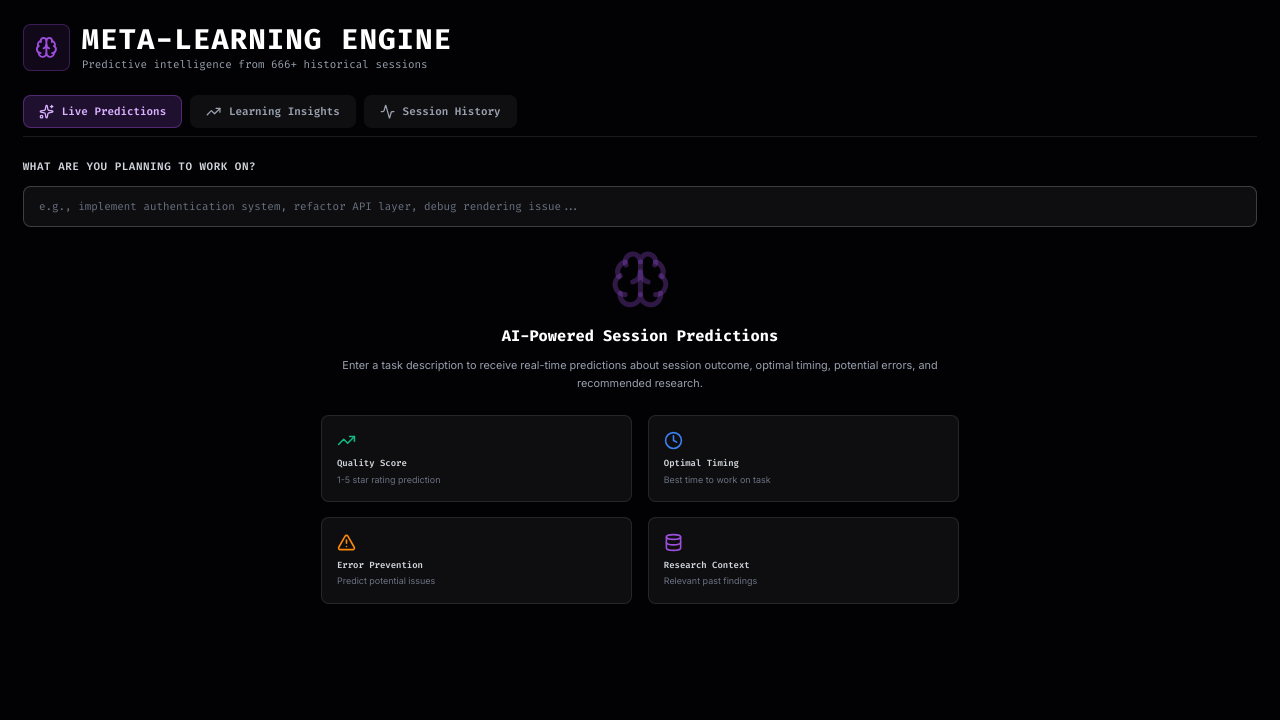
Test case: MetaLearningDashboard › shows character count warning when intent is 1-2 chars
The image size is (1280, 720).
Replace the text in the field with placeholder "implement authentication system" with "ab" at (640, 206), box x1=23 y1=186 x2=1257 y2=227
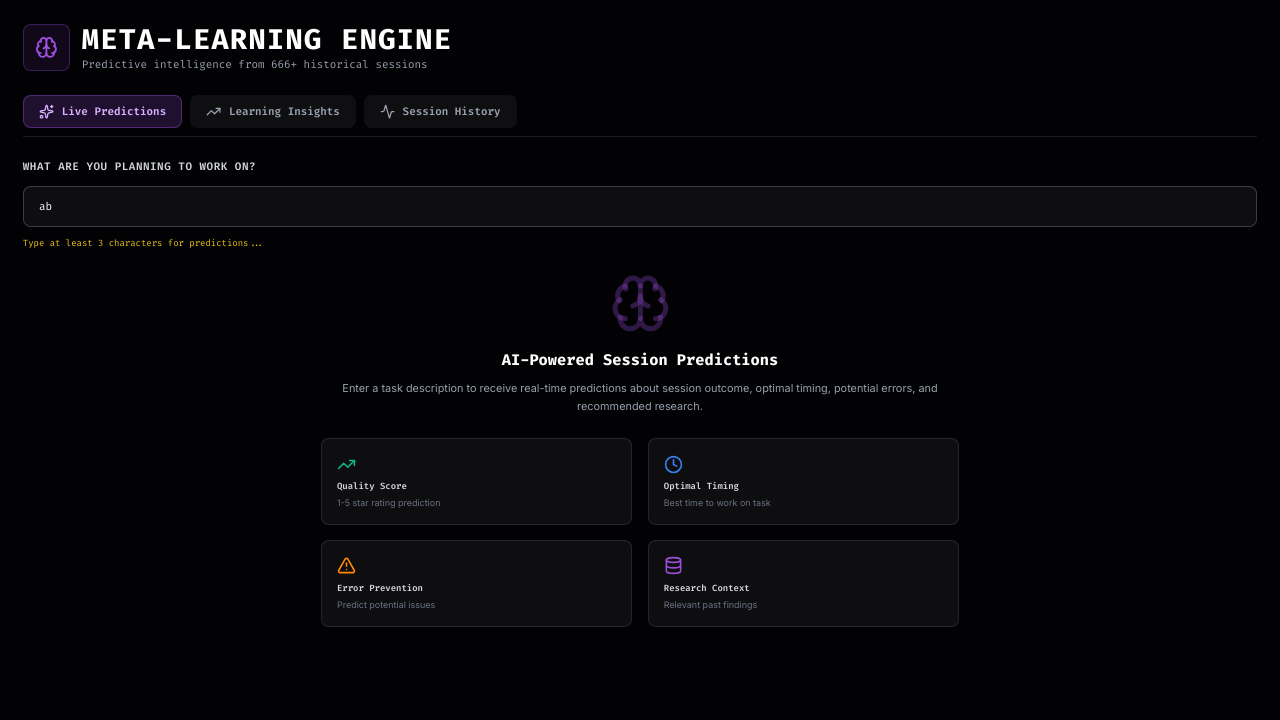
Check: the text "Type at least 3 characters for predictions..." is shown, box x1=23 y1=237 x2=264 y2=249
